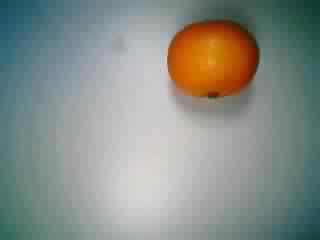orange: (164, 19, 267, 102)
